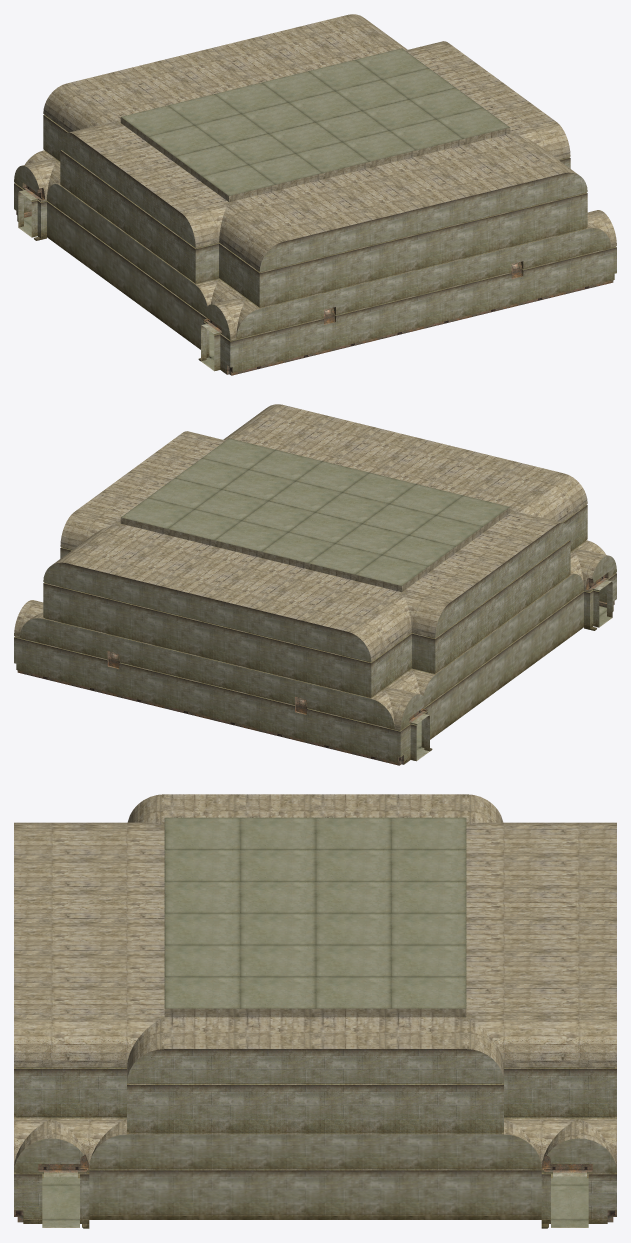
File: poi_all_bunker_allum_mine_r9_largeroom_mesh_r9.fbx
3 views of the same model, one above another, from view 1: azimuth 30°, elevation 25°; view 2: azimuth 150°, elevation 25°; view 3: azimuth 270°, elevation 25° (orthographic). The views are drawn at different scales.
Visible parts, largest first — view 1: mesh_node; view 2: mesh_node; view 3: mesh_node.
Part boxes in pixels (x1,y1,x2,y2): mesh_node: [14, 14, 616, 375]; mesh_node: [14, 404, 616, 765]; mesh_node: [14, 794, 616, 1228].
Size of the model in its own units: 34 by 12.5 by 32.
